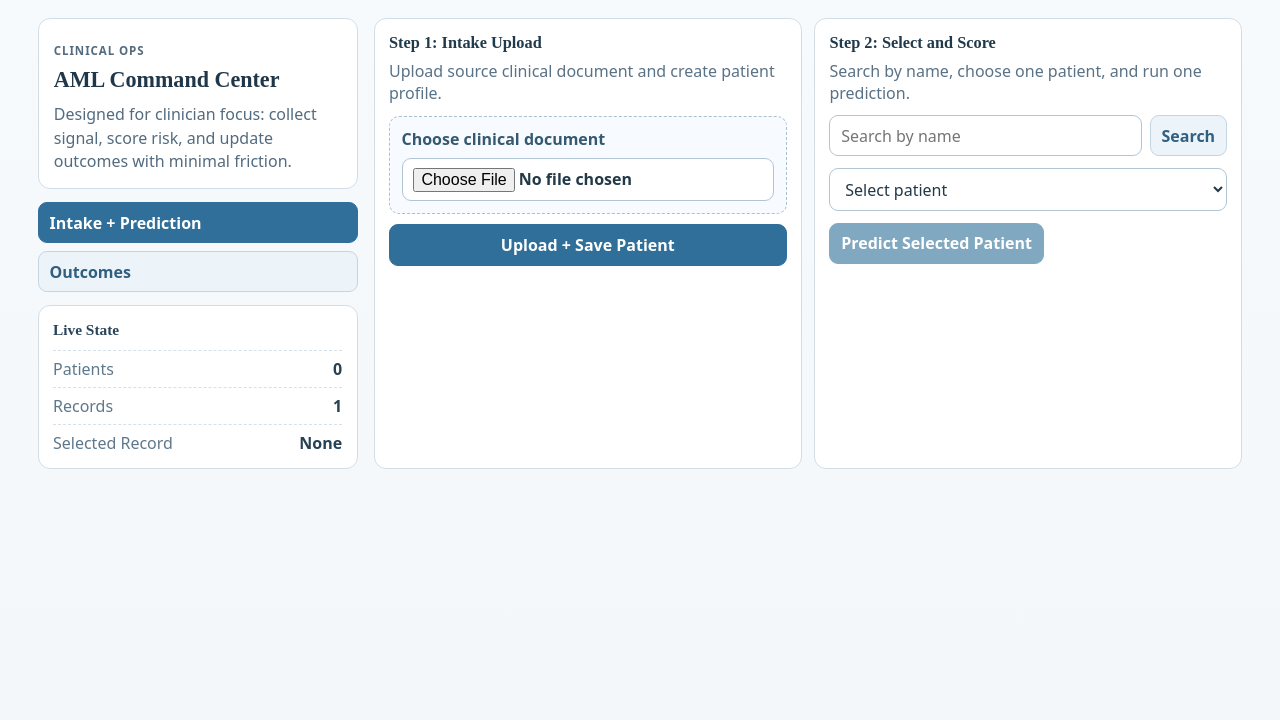
Test case: App workflow › updates outcome from outcomes tab
This screenshot has width=1280, height=720.
Click the button "Outcomes".
click(90, 272)  # box 38,251 -> 358,292
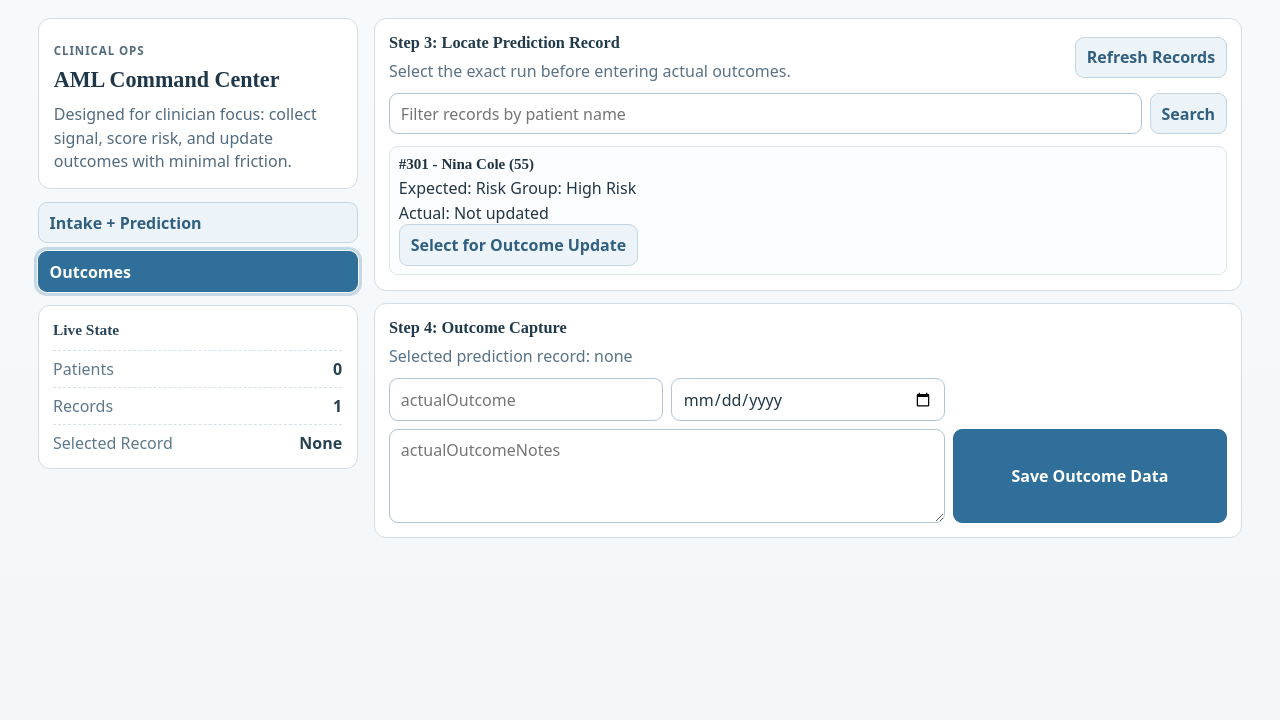
Click the button "Select for Outcome Update".
click(518, 245)  # box 399,224 -> 638,266
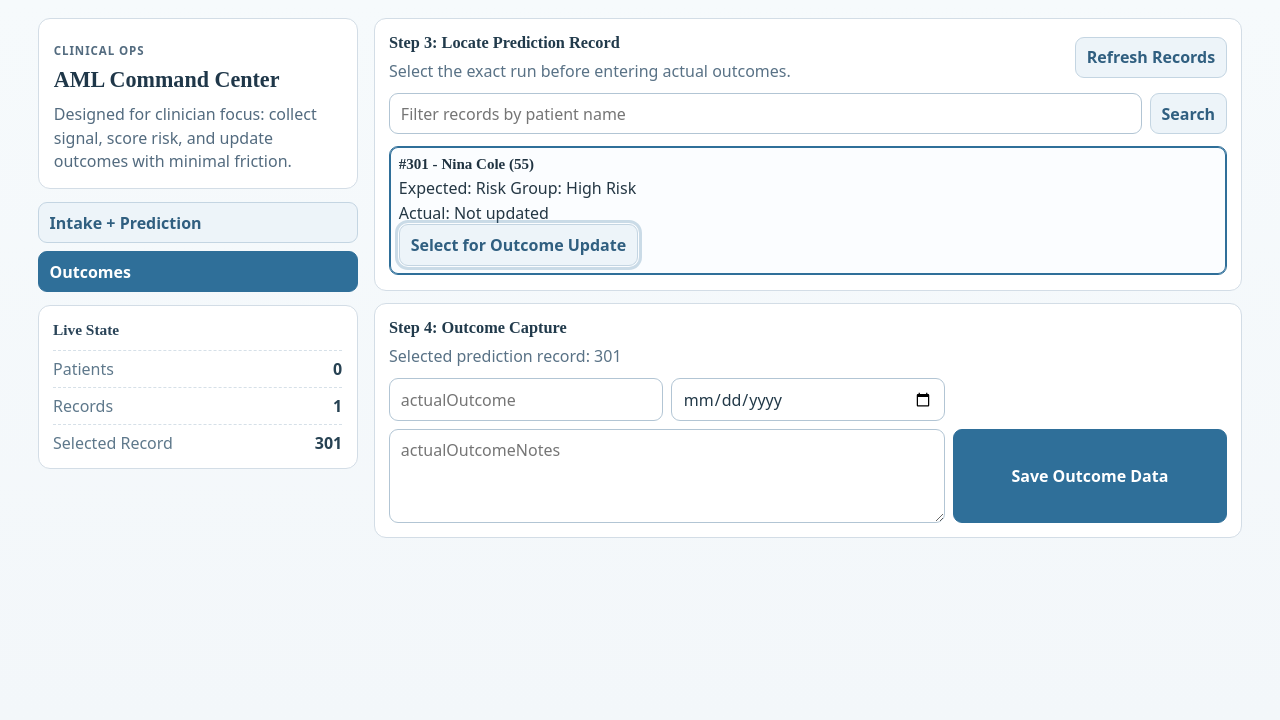
Type "Alive at 12 months" into the field with placeholder "actualOutcome".
click(526, 400); type("Alive at 12 months")  # box 389,378 -> 663,422
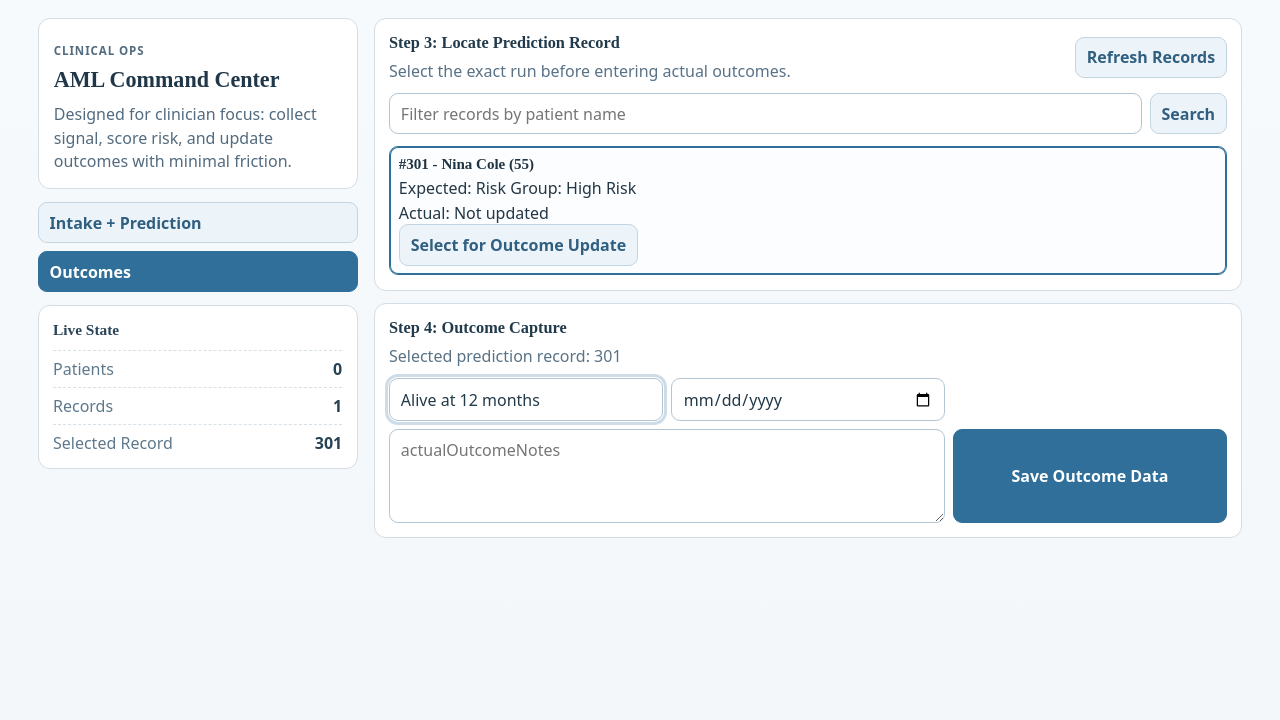
Type "Clinical follow-up stable." into the text box with placeholder "actualOutcomeNotes".
click(667, 476); type("Clinical follow-up stable.")  # box 389,429 -> 945,523
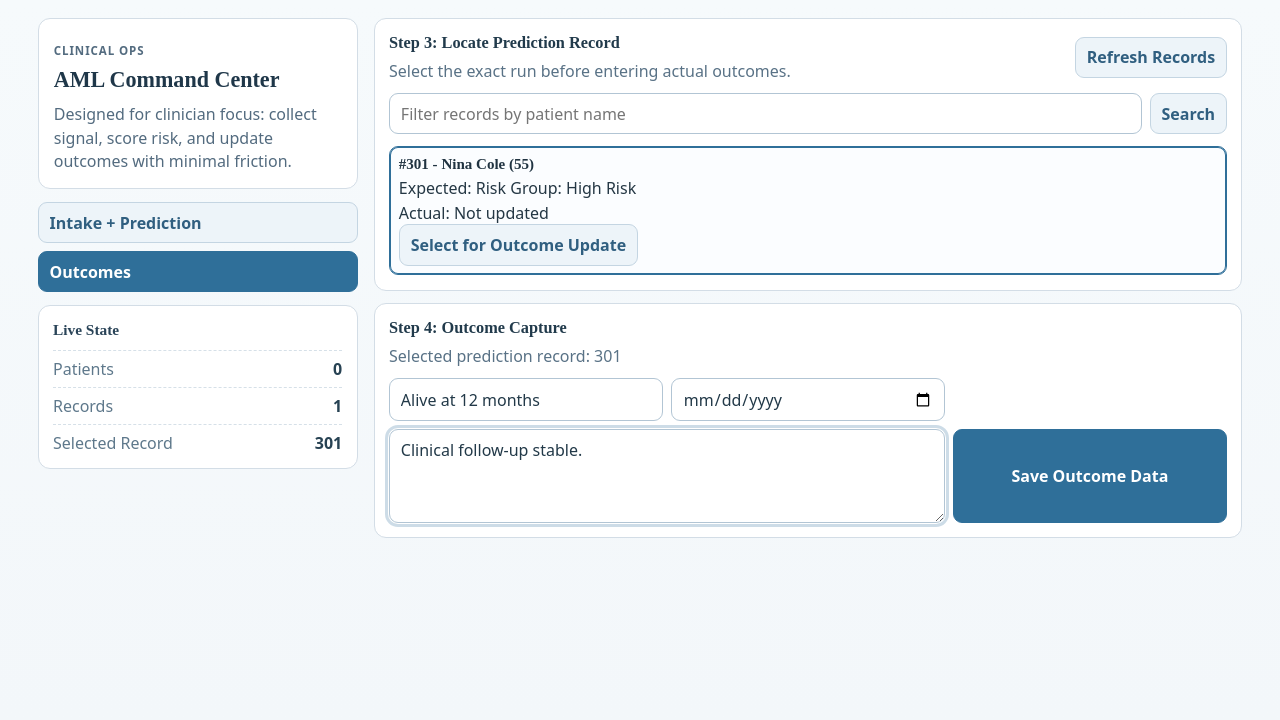
Click the button "Save Outcome Data".
click(1090, 476)  # box 953,429 -> 1227,523
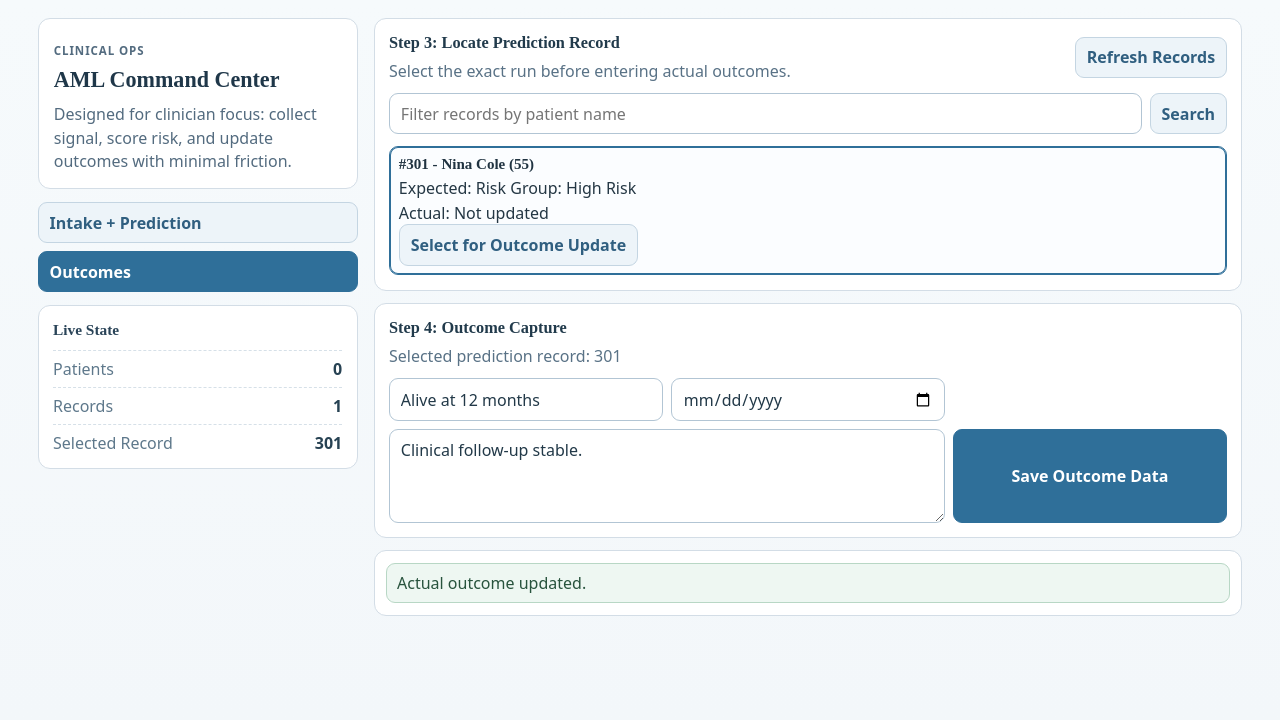
Now the text "Actual outcome updated." is shown, box 386,563 -> 1230,603
